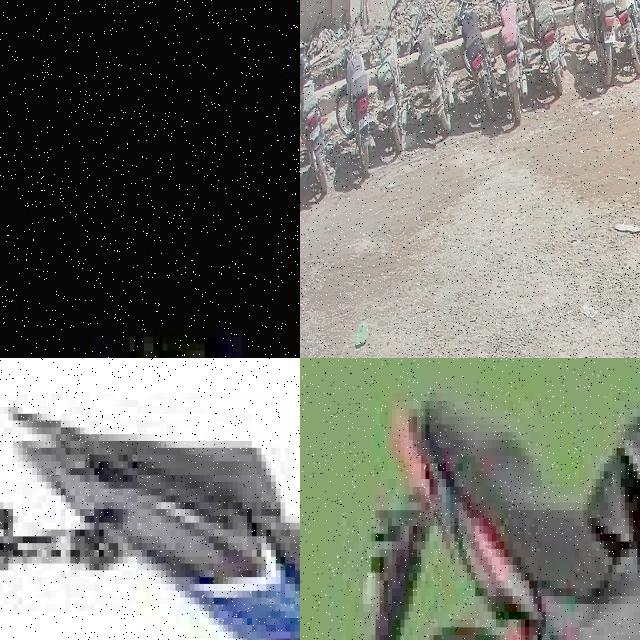bike: (0, 358, 300, 640), (55, 27, 300, 358), (367, 358, 640, 640), (335, 8, 376, 172), (408, 0, 454, 133), (368, 0, 407, 151), (300, 31, 333, 190), (456, 0, 497, 118), (521, 0, 566, 95), (495, 0, 528, 121), (573, 0, 618, 85), (604, 0, 640, 74)
